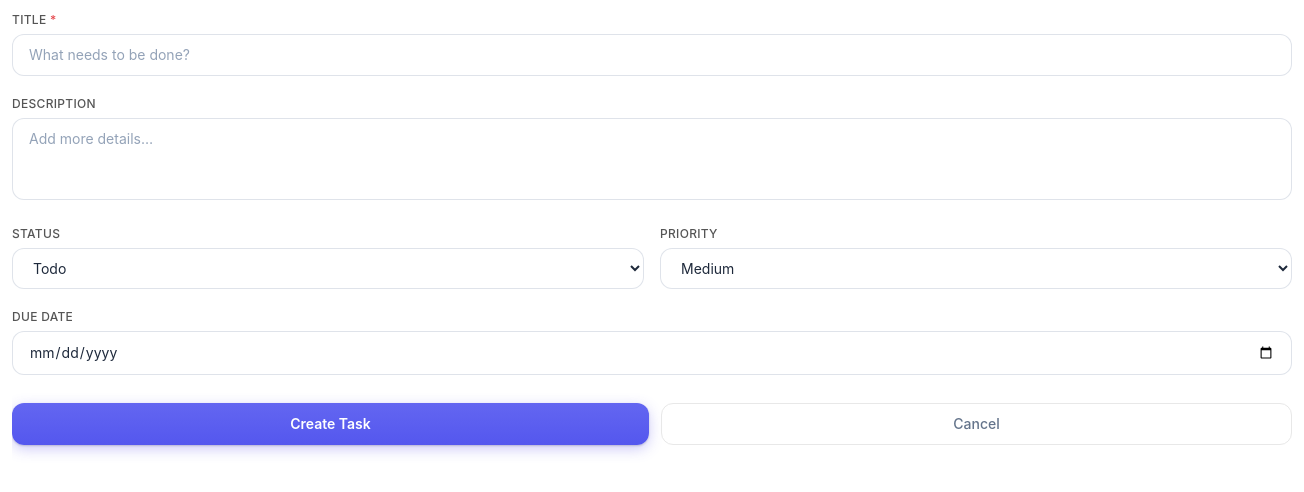
Test: TaskForm › shows validation error when title is empty on submit
Click the button "Create Task" at (330, 424), box [12, 403, 649, 445]
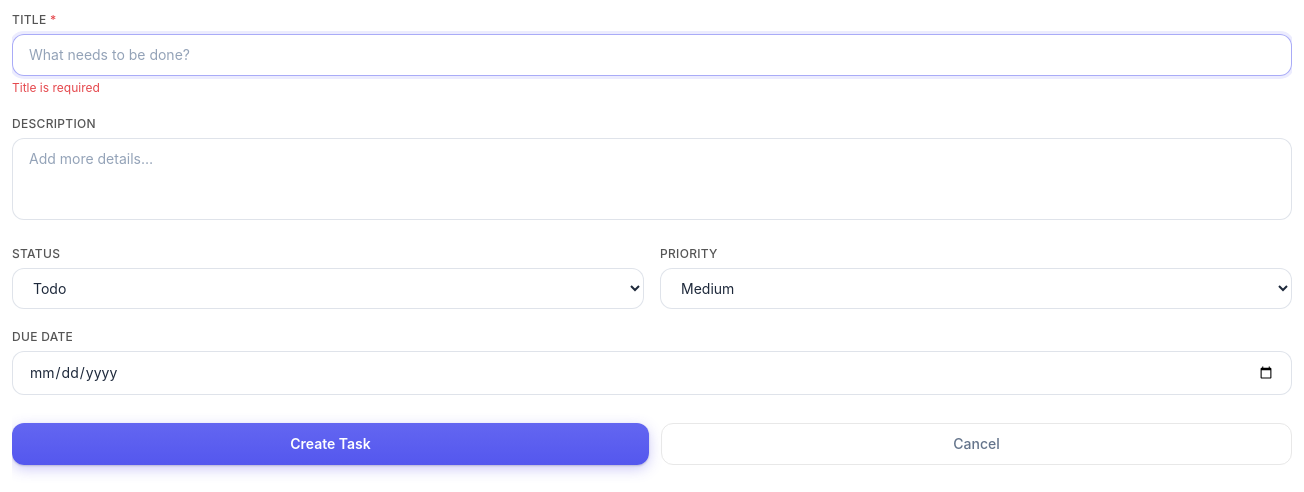
Check: the text "Title is required" is shown, box [12, 80, 100, 95]
